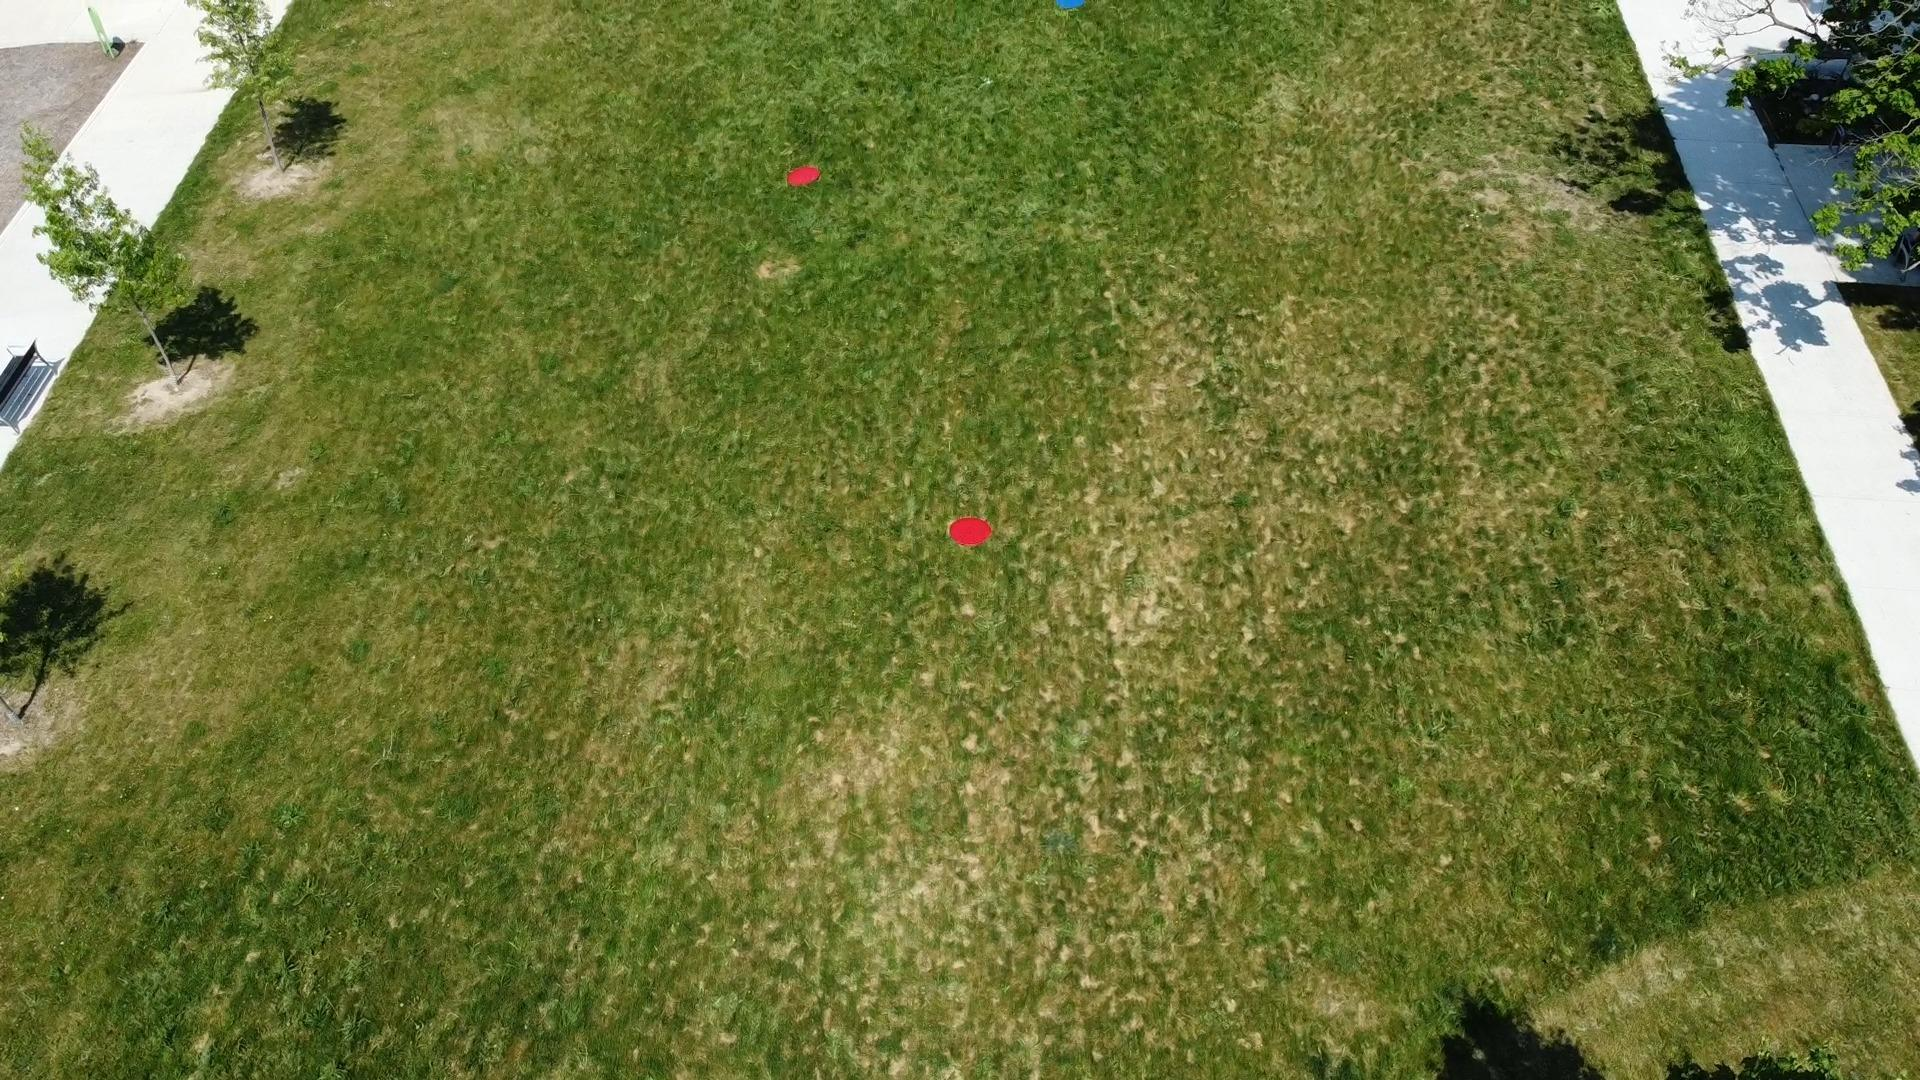Blue: (1051, 0, 1089, 11)
Red: (948, 514, 994, 547), (783, 166, 825, 187)
